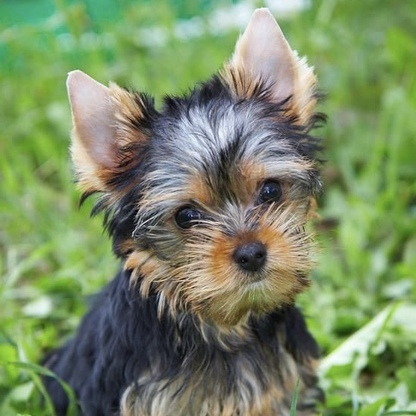yorkshire: (48, 5, 328, 416)
